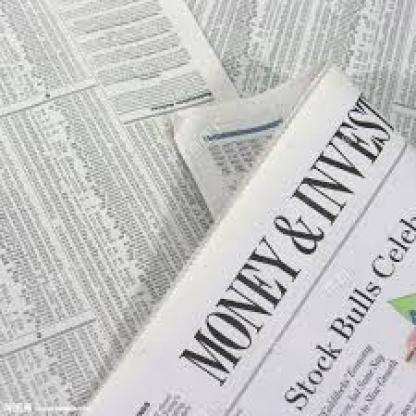paper: (78, 58, 414, 414), (0, 0, 241, 413), (179, 0, 415, 140)
